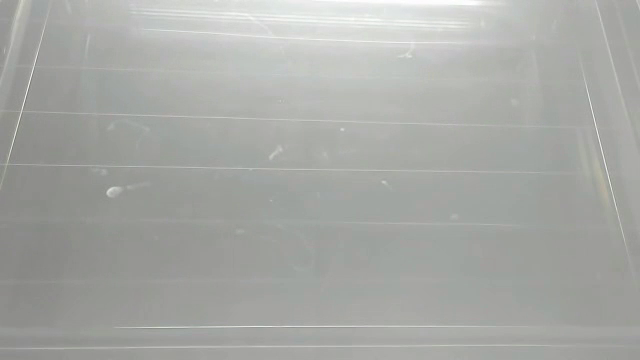alpha: (103, 183, 129, 203)
